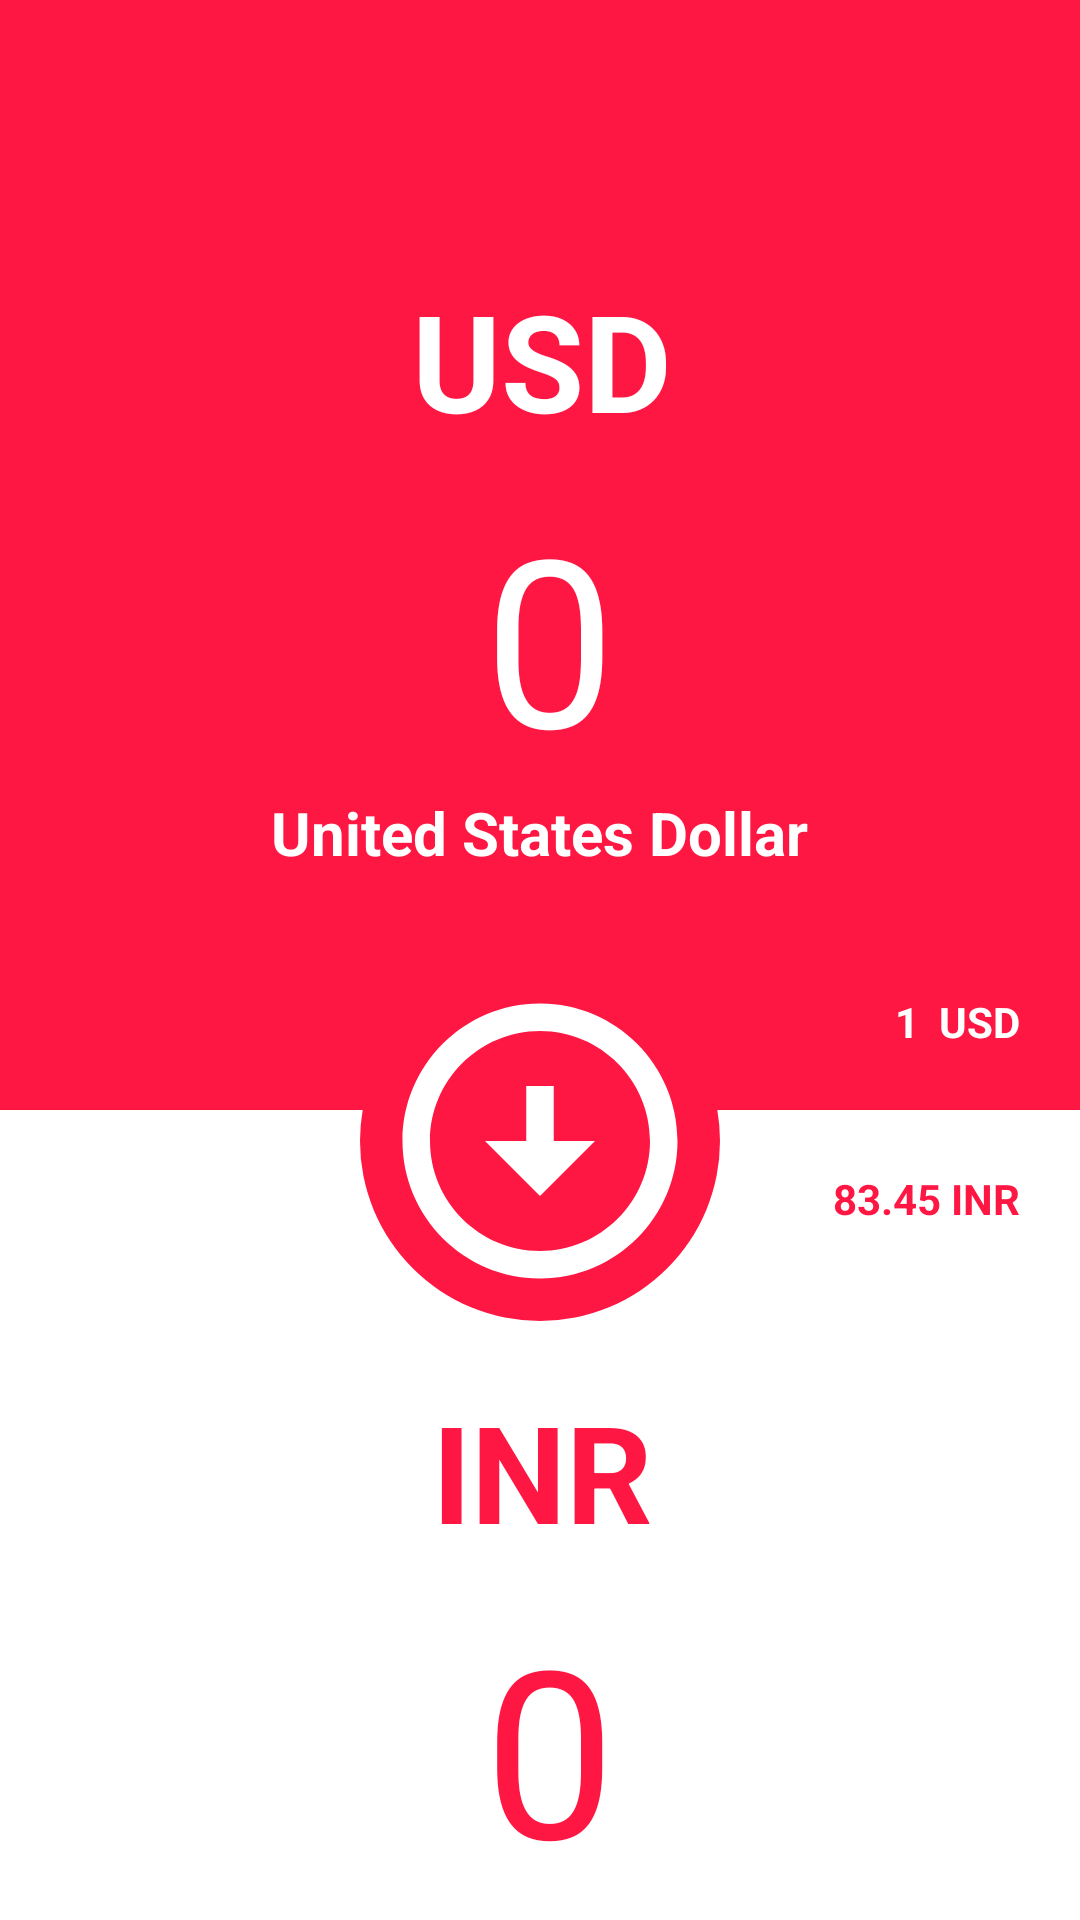

Icons on this 1080×1920 Android screen, each with its box as (x1, y1, x2, y2):
arrow circle down: (402, 1003, 678, 1279)
